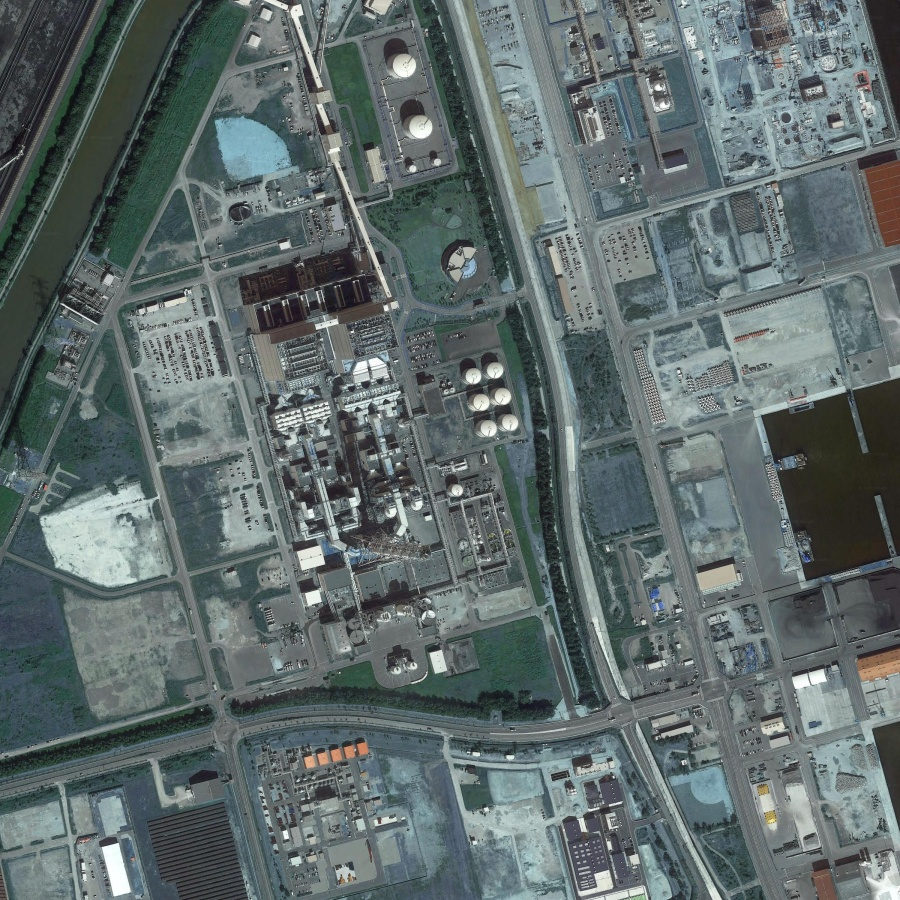PowerPlant: (250, 288, 530, 678)
